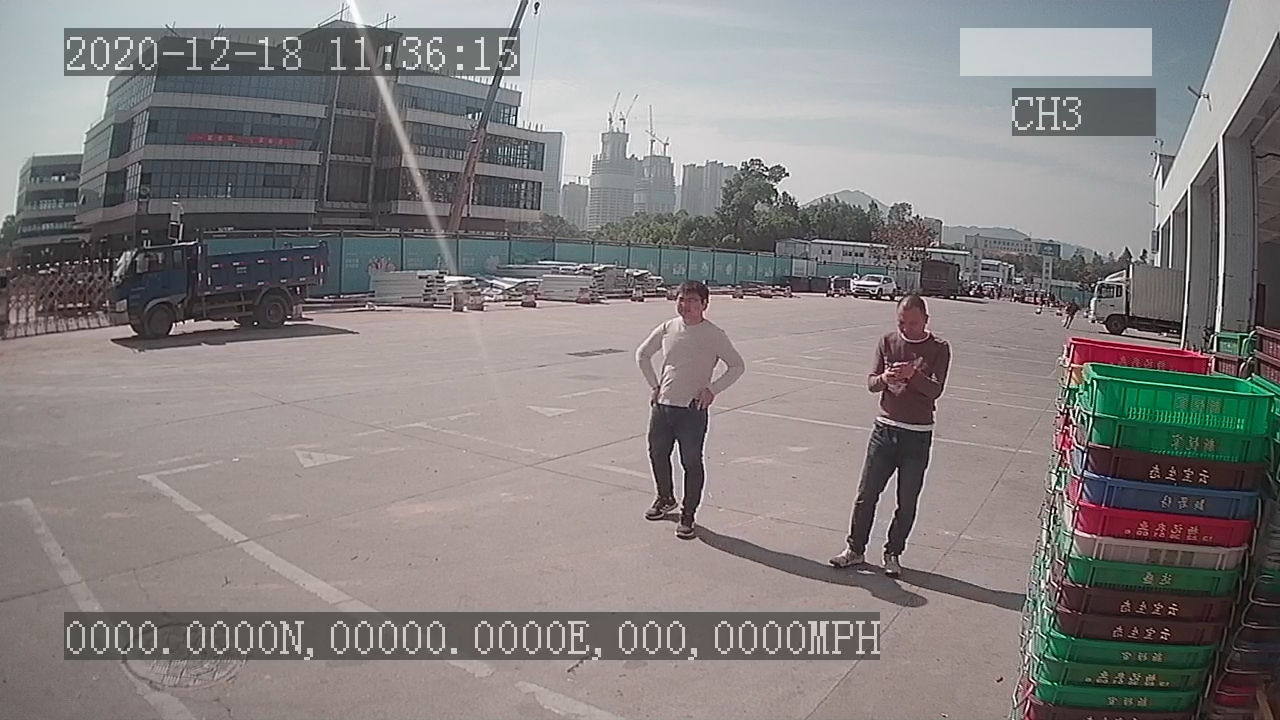person: (828, 294, 956, 577), (631, 273, 744, 539)
